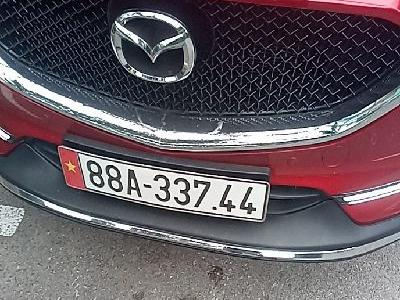lisence: (56, 144, 270, 226)
